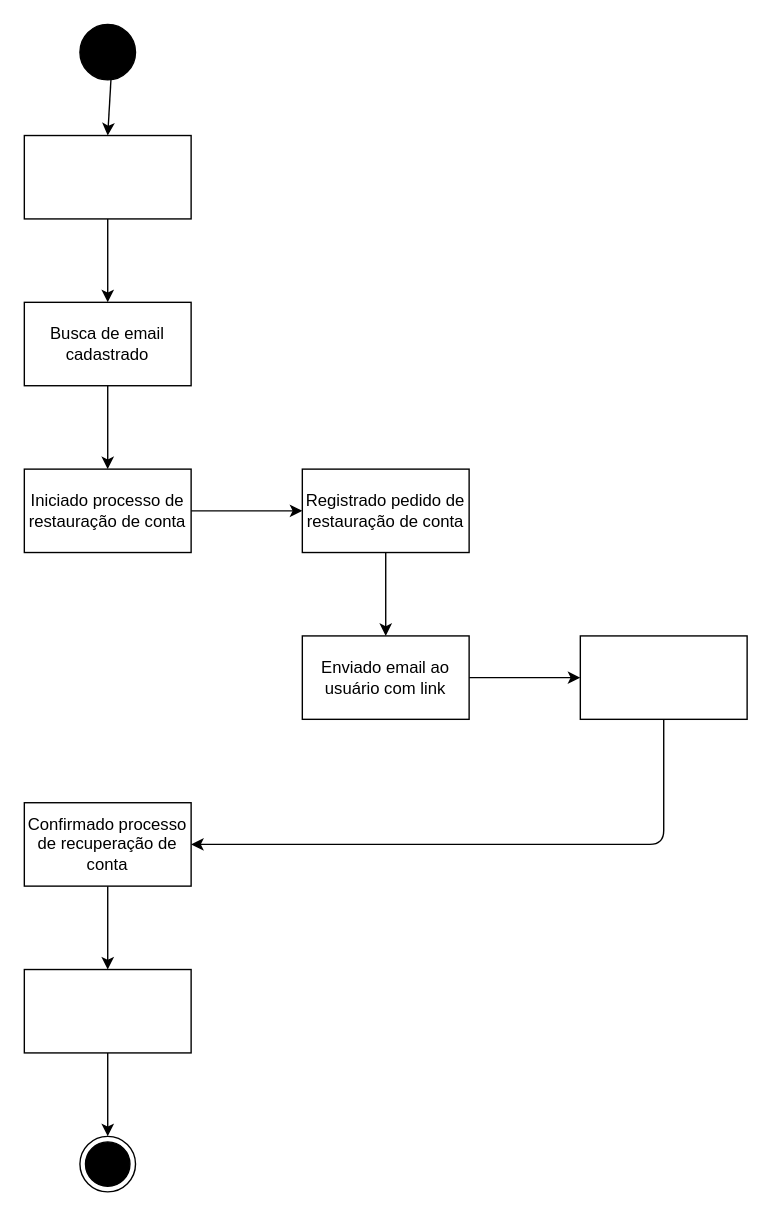
This 771x1216 diagram has some shape labels left out. The centre of each missing label's shape, as x and y in pixels:
"Esqueci minha senha" belongs at point (107, 176).
"Redirecionamento ao login" belongs at point (107, 1010).
"Rota frontend não autorizada que espera senha e dica de senha nova" belongs at point (663, 677).
